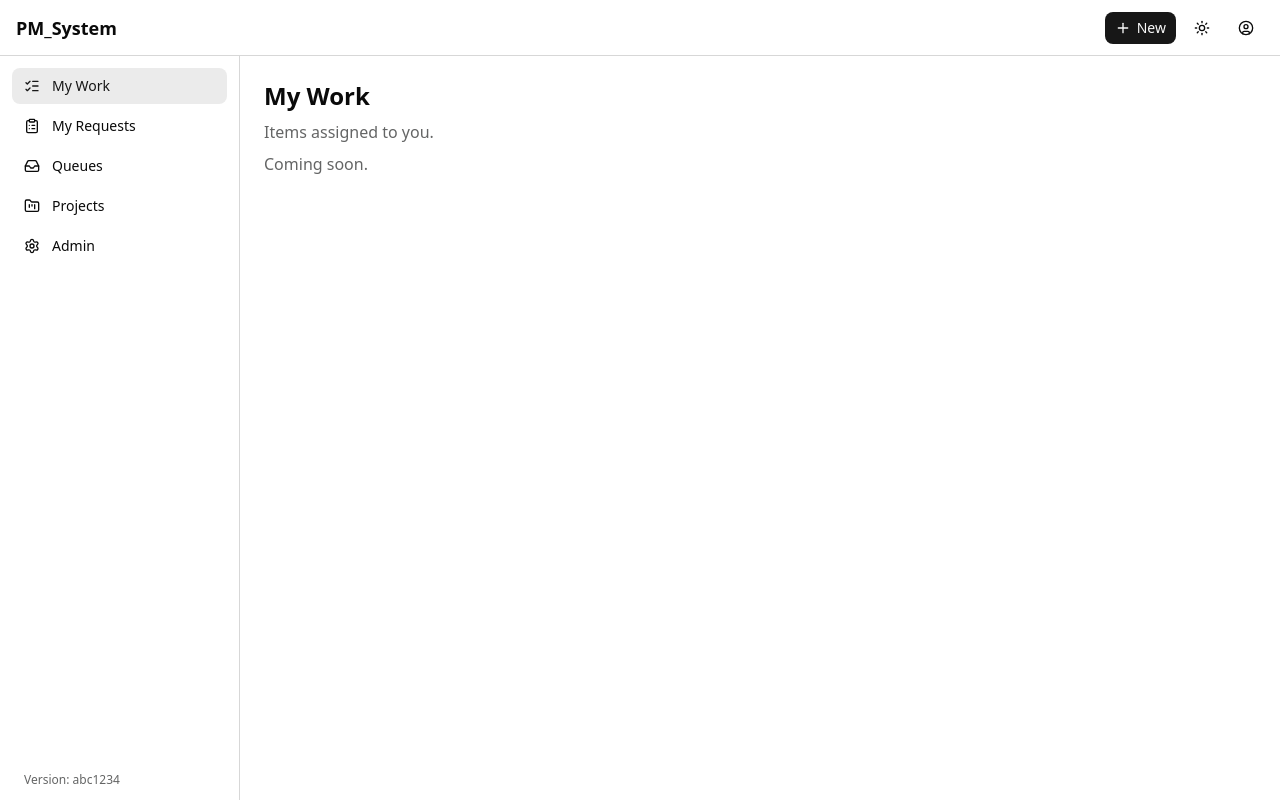
app shell › has a Queues page in the navigation
Click the link "Queues": (63, 166) [24, 156, 103, 175]
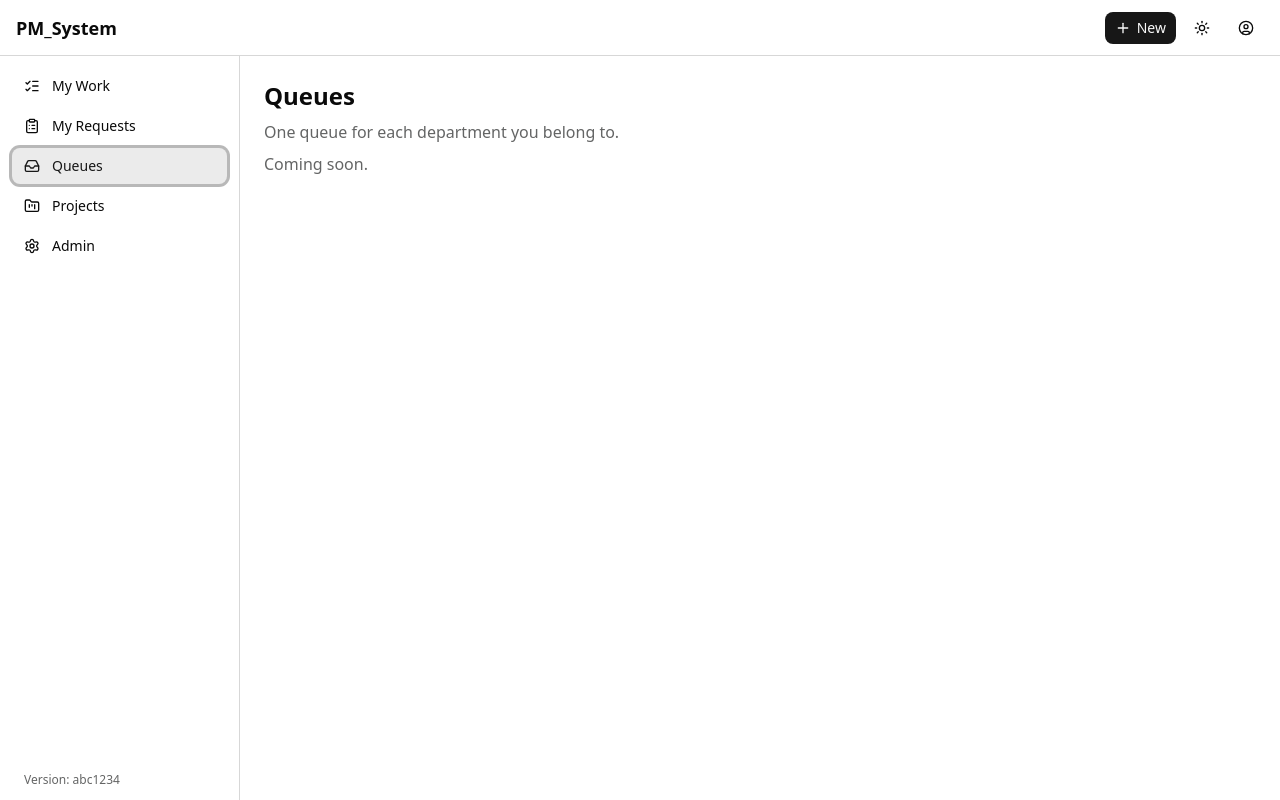
Result: the heading "Queues" is shown at [264, 79, 355, 112]
